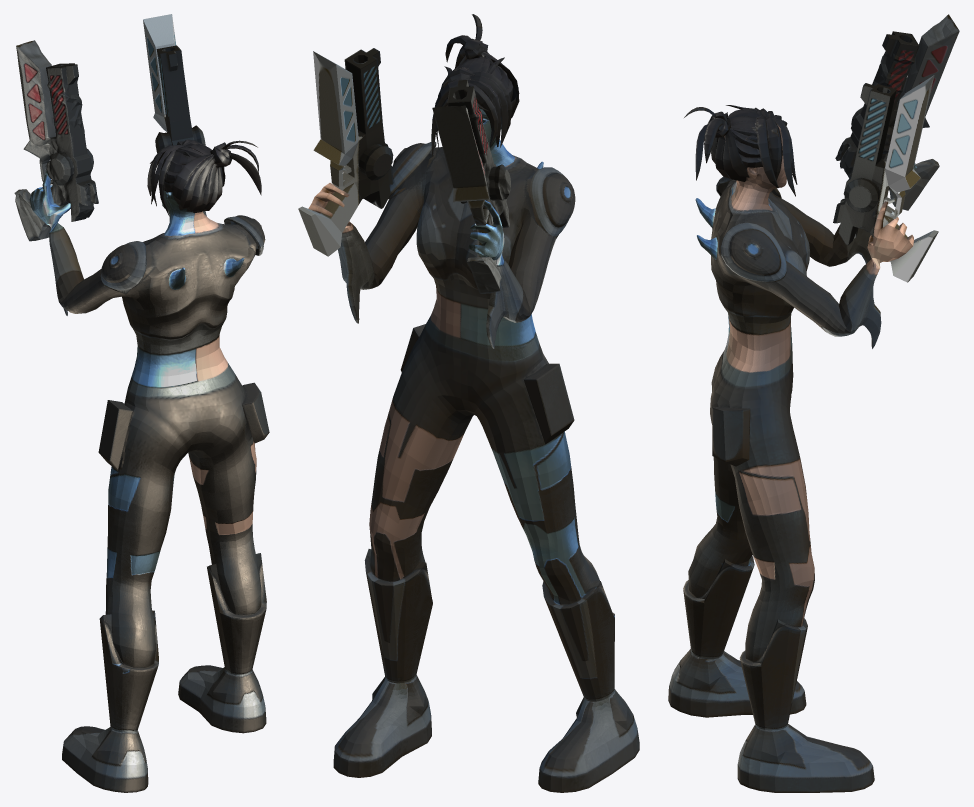
3 views of the same model, side by side, from view 1: azimuth 30°, elevation 25°; view 2: azimuth 150°, elevation 25°; view 3: azimuth 270°, elevation 25° (orthographic). The views are drawn at different scales.
Visible parts, largest first — view 1: Dex_LOW_Plane.001; view 2: Dex_LOW_Plane.001; view 3: Dex_LOW_Plane.001.
Boxes of the visible parts, box(x1,y1,x2,y2) form: Dex_LOW_Plane.001: box(14, 14, 269, 792); Dex_LOW_Plane.001: box(298, 14, 639, 792); Dex_LOW_Plane.001: box(668, 14, 959, 792).
Bounding box in the file's own units: 1.63 × 5.08 × 1.92.
